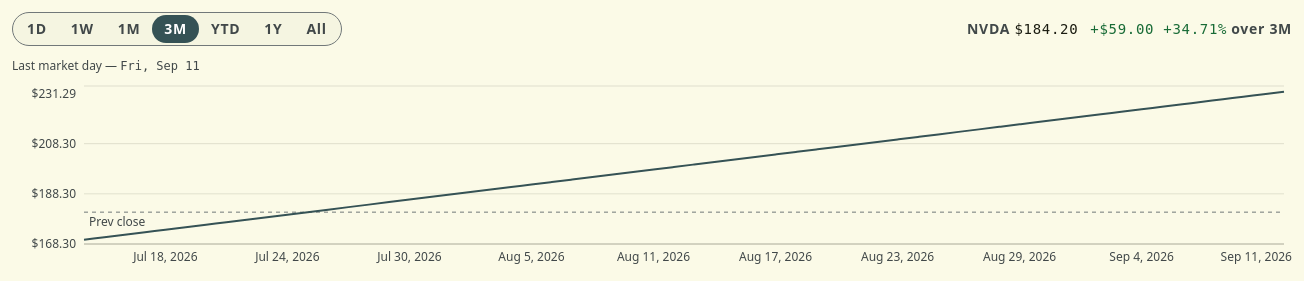
it: UnderlyingChart › asks for the day at five-minute bars and draws all of them
Click the button "1D" at x=37, y=29, box [15,15,59,43]
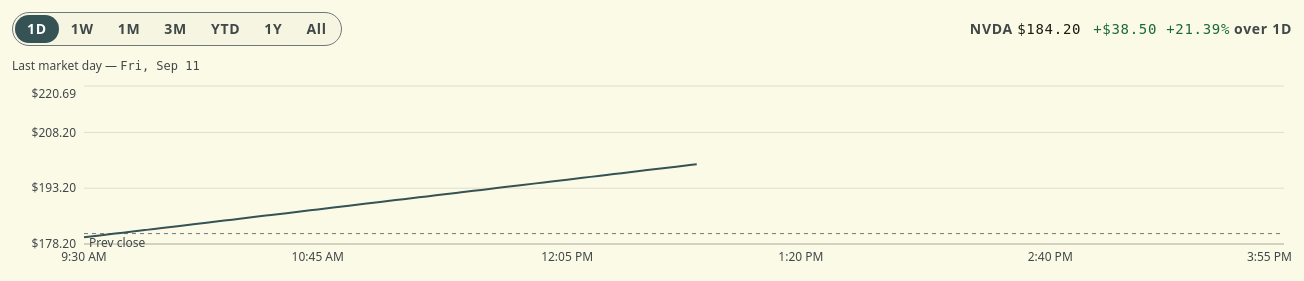
Expected: the text "over 1D" is shown, [1234,19,1292,38]
